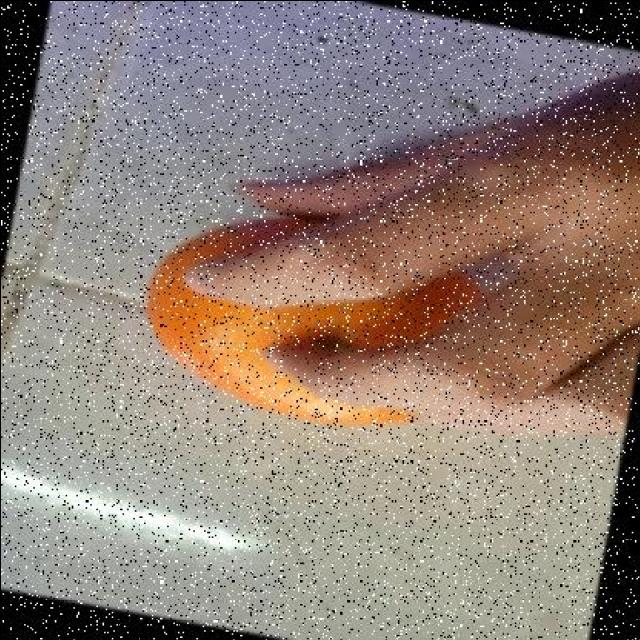Orange: (144, 215, 488, 431)
